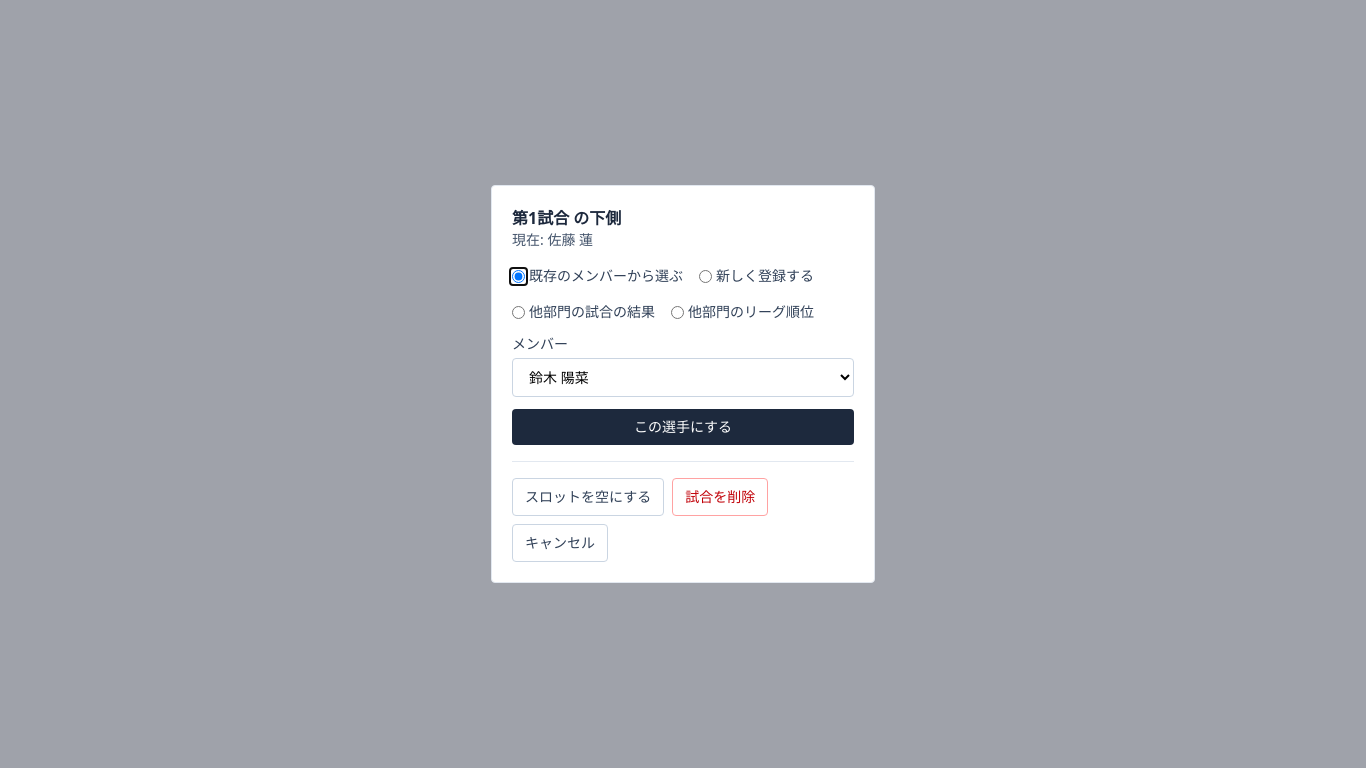
Test: SlotEditDialog › リーグ順位モードではリーグの部門だけが選べる
Click the radio button labelled "他部門のリーグ順位" at (678,312), box [671,306,684,318]
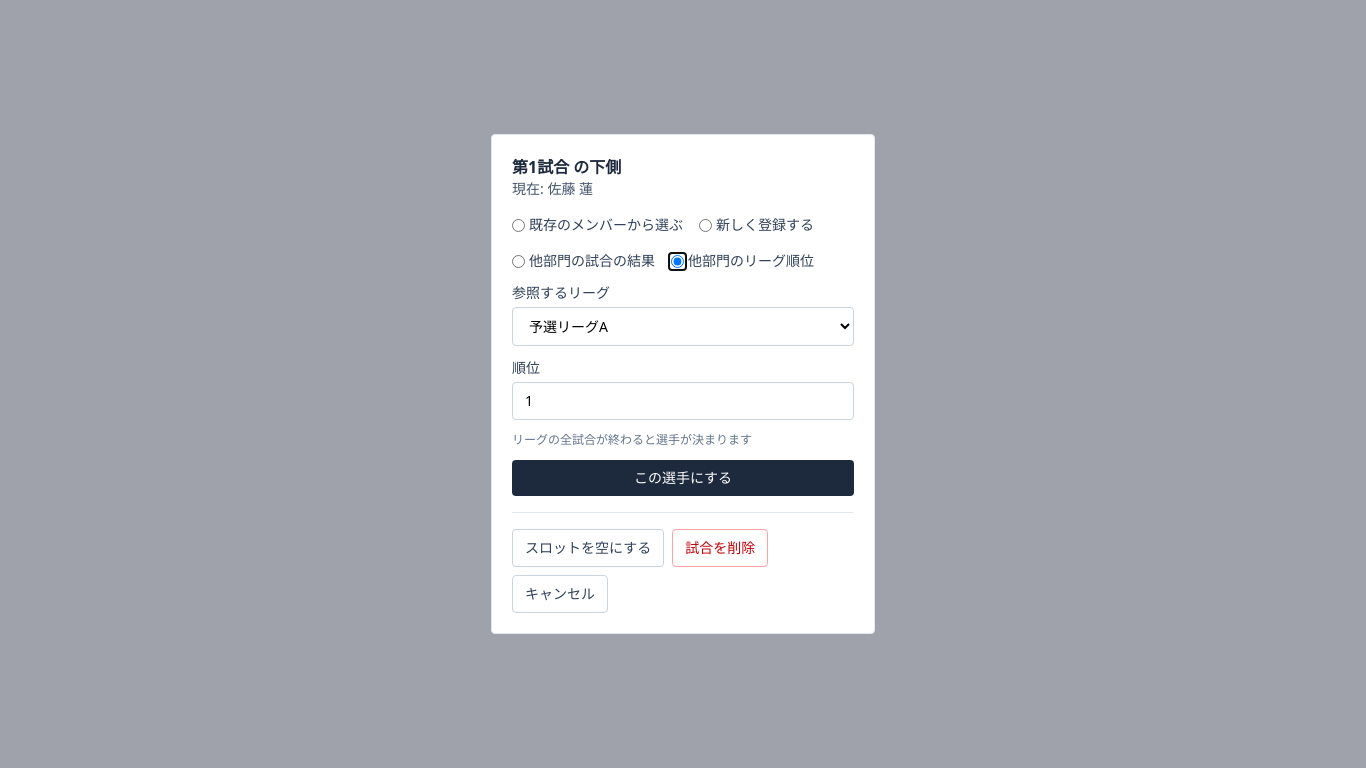
Result: the dropdown labelled "参照するリーグ" shows "予選リーグA" at [512,307,854,346]
